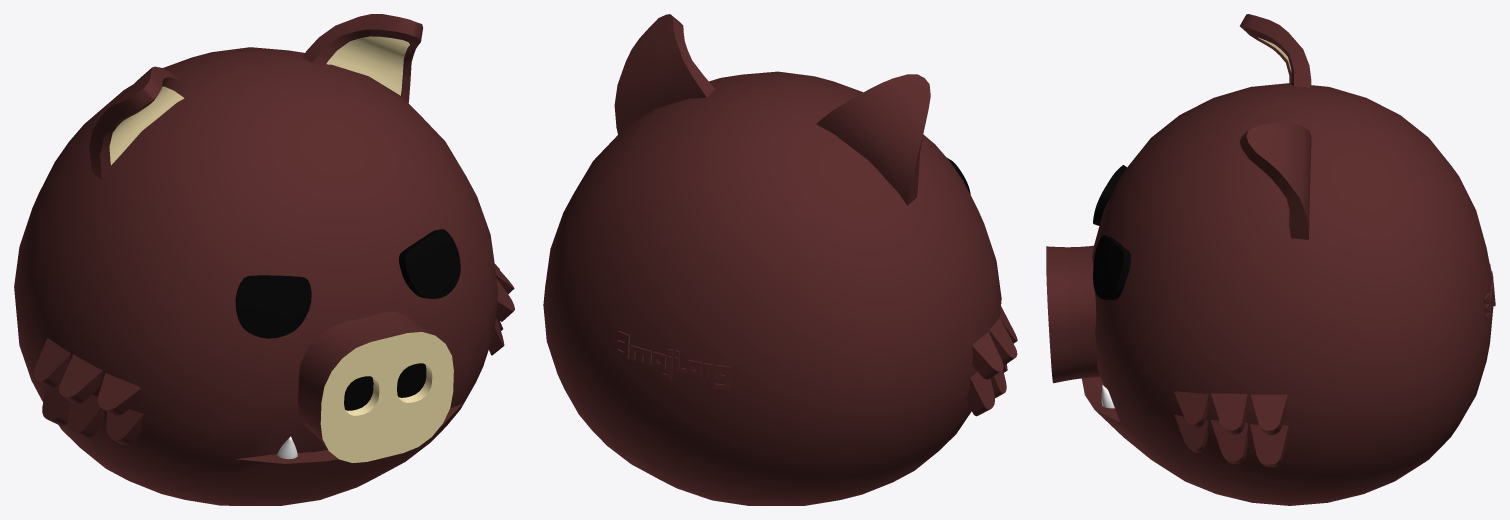
The model's file is boar.gltf.
3 views of the same model, side by side, from view 1: azimuth 30°, elevation 25°; view 2: azimuth 150°, elevation 25°; view 3: azimuth 270°, elevation 25° (orthographic). The views are drawn at different scales.
Parts seen in each view (by area): view 1: Cube.6233, Cube.6234, Cube.870, Circle.1897; view 2: Cube.6233, Cube.870; view 3: Cube.6233, Cube.870, Cube.6234, Circle.1897.
Boxes of the visible parts, box(x1,y1,x2,y2) form: Cube.6233: box(14, 47, 514, 505); Cube.6234: box(298, 311, 453, 462); Cube.870: box(89, 14, 422, 178); Circle.1897: box(235, 229, 460, 338); Cube.6233: box(543, 71, 1017, 505); Cube.870: box(614, 14, 930, 205); Cube.6233: box(1081, 83, 1495, 505); Cube.870: box(1239, 14, 1311, 239); Cube.6234: box(1046, 245, 1100, 383); Circle.1897: box(1093, 165, 1130, 299).
Size of the model in its own units: 2.21 by 2.02 by 2.04.
Materials: 1 (1 with a texture image).
